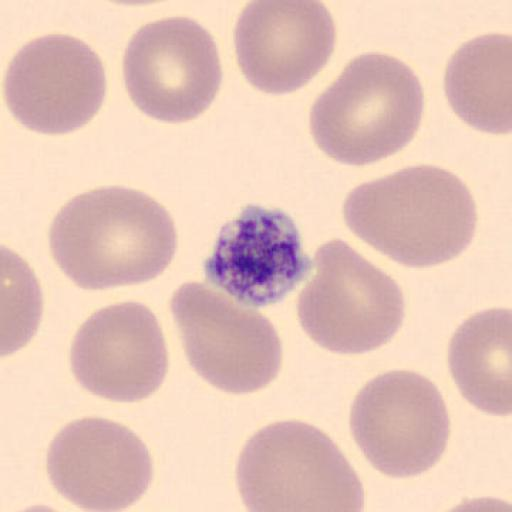Platelet: (202, 203, 316, 308)
RBC: (342, 163, 480, 270), (47, 184, 179, 294), (306, 50, 426, 167), (294, 235, 408, 357), (168, 280, 284, 396), (234, 417, 366, 512), (346, 368, 452, 480), (120, 15, 224, 125), (2, 31, 108, 138), (45, 413, 156, 511), (68, 299, 170, 405), (231, 0, 337, 97), (446, 305, 512, 419), (442, 31, 512, 137), (2, 243, 44, 359), (432, 493, 511, 512), (0, 500, 79, 512), (1, 502, 93, 512), (86, 0, 181, 7)
